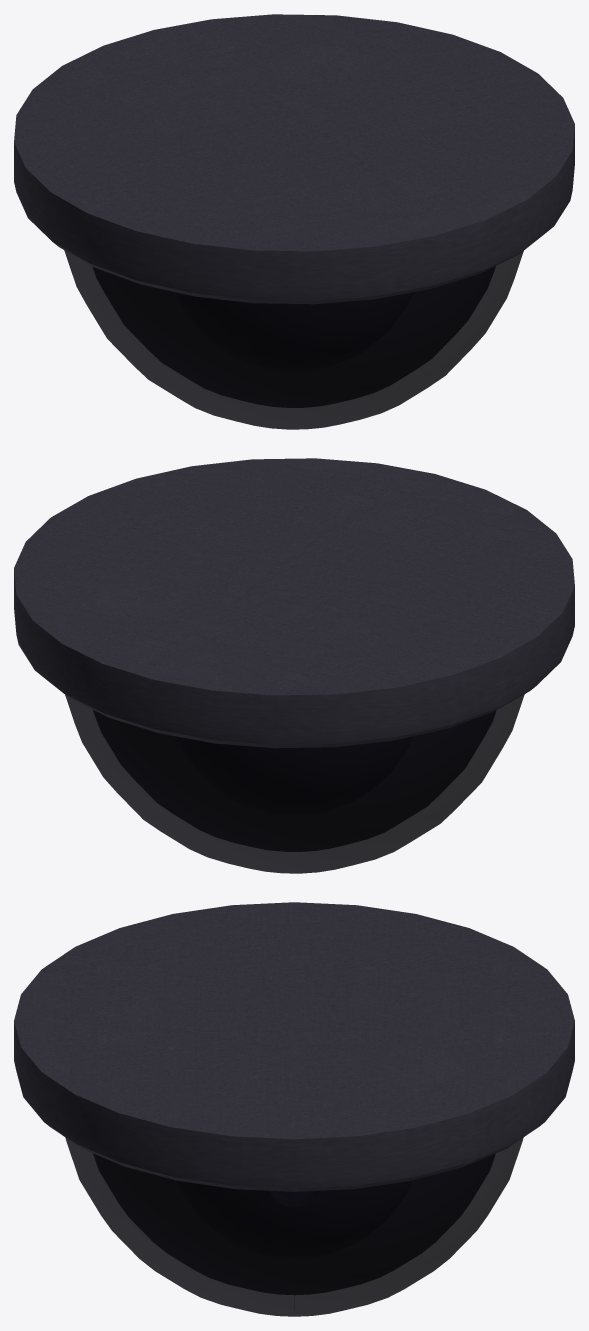
File: Security_Camera_01.FBX
The picture shows the model from 3 angles, top to bottom: view 1: azimuth 30°, elevation 25°; view 2: azimuth 150°, elevation 25°; view 3: azimuth 270°, elevation 25°; orthographic projection.
Parts seen in each view (by area): view 1: Cylinder001, outer glass shield, Sphere004; view 2: Cylinder001, outer glass shield, Sphere004; view 3: Cylinder001, outer glass shield, Sphere004.
Boxes of the visible parts, x1=… form: Cylinder001: x1=14, y1=14, x2=574, y2=304; outer glass shield: x1=64, y1=250, x2=523, y2=429; Sphere004: x1=177, y1=293, x2=412, y2=371; Cylinder001: x1=14, y1=458, x2=574, y2=748; outer glass shield: x1=65, y1=694, x2=524, y2=873; Sphere004: x1=176, y1=737, x2=411, y2=815; Cylinder001: x1=14, y1=902, x2=574, y2=1191; outer glass shield: x1=65, y1=1137, x2=523, y2=1316; Sphere004: x1=177, y1=1181, x2=411, y2=1258.
Size of the model in its own units: 10.24 by 5.52 by 10.24.
Materials: 3 (2 with a texture image).
